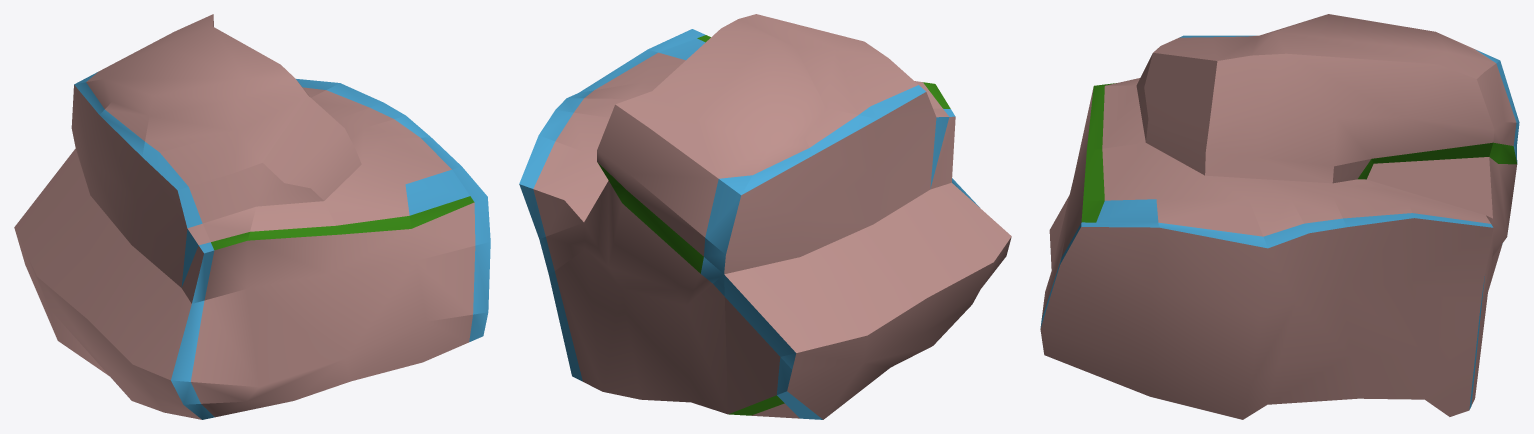
File: rocamejorada2.fbx
3 renders of one model, left to right at view 1: azimuth 30°, elevation 25°; view 2: azimuth 150°, elevation 25°; view 3: azimuth 270°, elevation 25°, orthographic. The views are drawn at different scales.
Parts seen in each view (by area): view 1: Roca1; view 2: Roca1; view 3: Roca1.
Part boxes in pixels (x1,y1,x2,y2): Roca1: [14, 14, 490, 419]; Roca1: [519, 14, 1011, 419]; Roca1: [1040, 14, 1519, 419].
Bounding box in the file's own units: 3.51 × 2.8 × 3.7.
